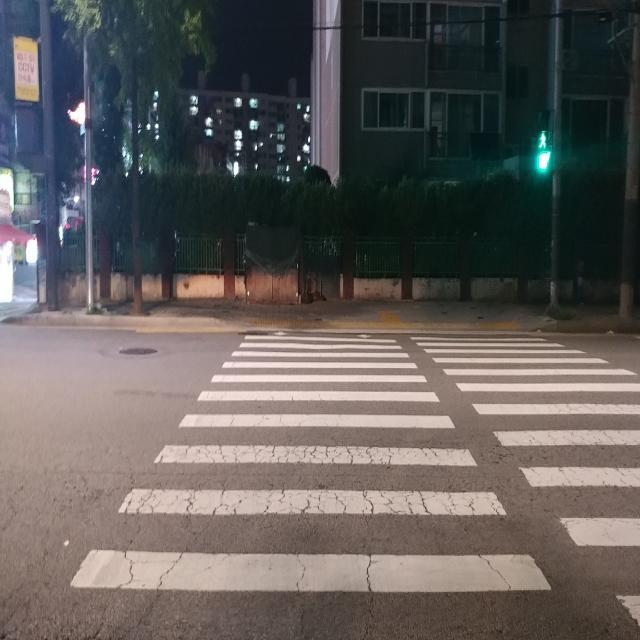초록불: (537, 112, 552, 176)
횡단보도: (68, 329, 640, 630)
